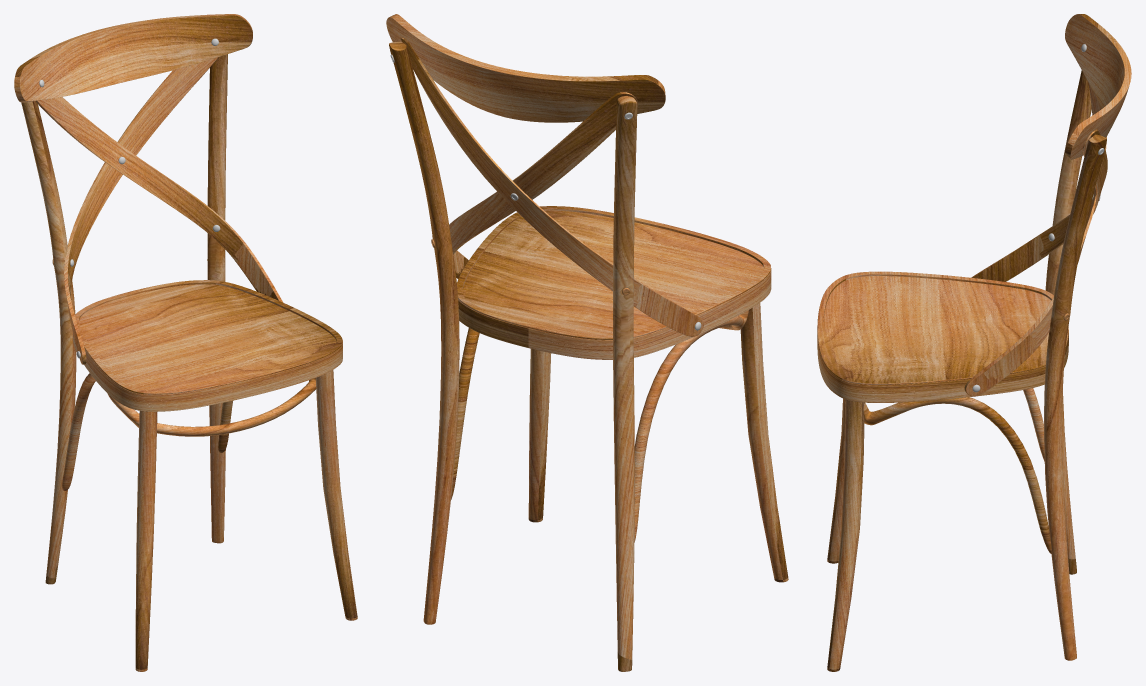
File: chair8.fbx
The picture shows the model from 3 angles, left to right: view 1: azimuth 30°, elevation 25°; view 2: azimuth 150°, elevation 25°; view 3: azimuth 270°, elevation 25°; orthographic projection. The views are drawn at different scales.
Visible parts, largest first — view 1: CHAIR_150; view 2: CHAIR_150; view 3: CHAIR_150.
Boxes of the visible parts, x1,y1,x2,y2 form: CHAIR_150: (14,14,357,671); CHAIR_150: (386,14,788,671); CHAIR_150: (817,14,1131,671).
Bounding box in the file's own units: 40.01 × 83.05 × 43.27.
3 materials, 2 textured.
